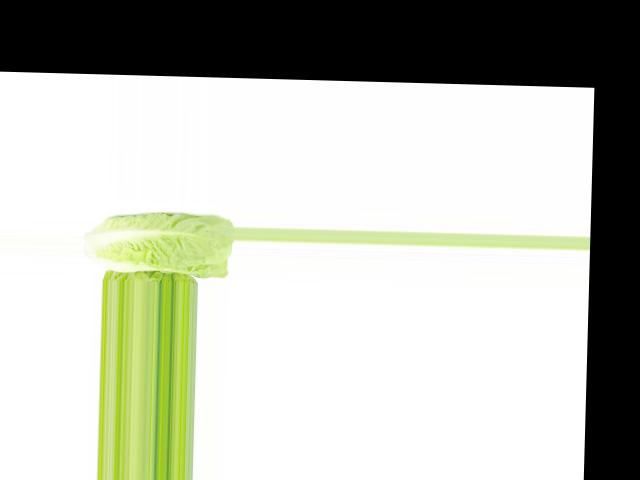lettuce: (83, 200, 235, 276)
